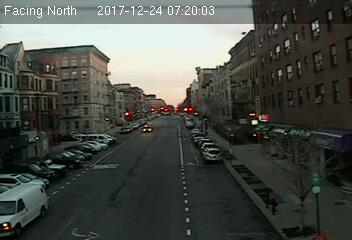car: (202, 148, 222, 161), (140, 123, 155, 135)
truck: (1, 179, 52, 238)
